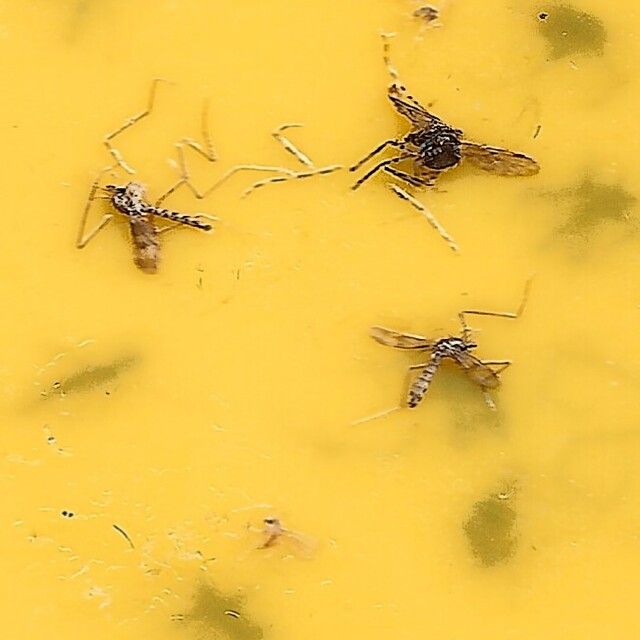Nematocera: (350, 82, 542, 217), (367, 323, 504, 415), (98, 181, 220, 277), (260, 516, 314, 558)
